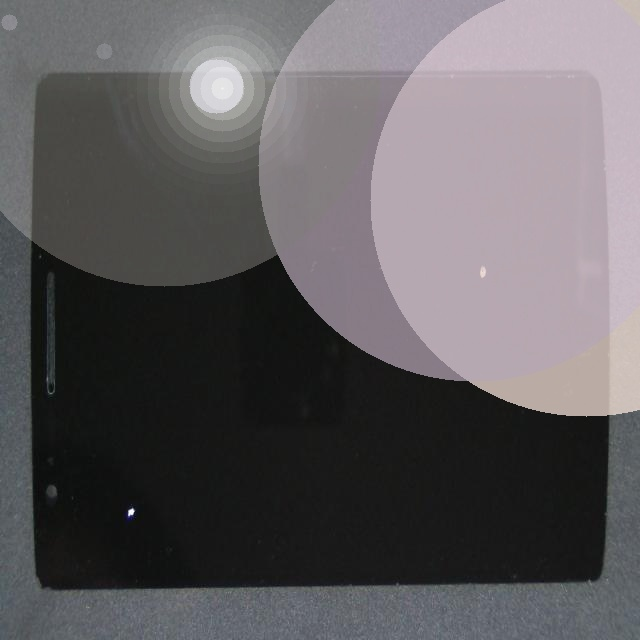stain: (213, 152, 640, 448), (68, 219, 181, 640)
